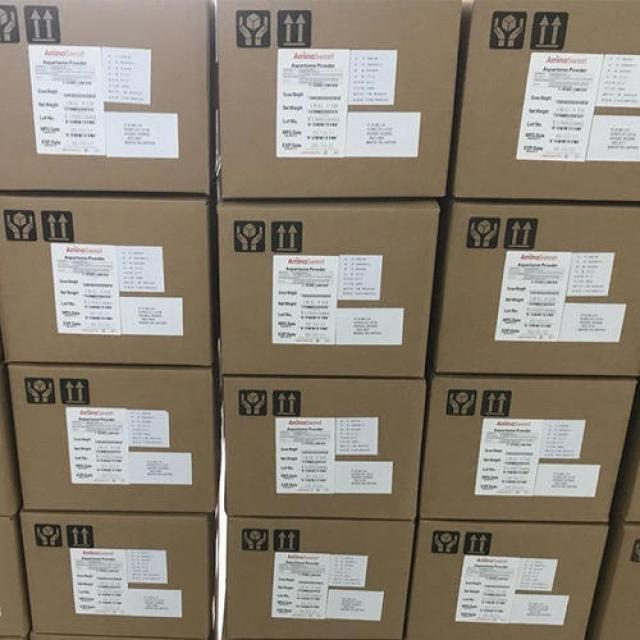box: (215, 0, 463, 198), (216, 196, 440, 378), (445, 0, 640, 201), (0, 189, 219, 367), (425, 197, 640, 376), (6, 355, 221, 512), (420, 372, 639, 524), (223, 372, 424, 521), (18, 509, 219, 640), (407, 518, 608, 640), (223, 516, 415, 640), (584, 516, 640, 640), (0, 515, 35, 637)
